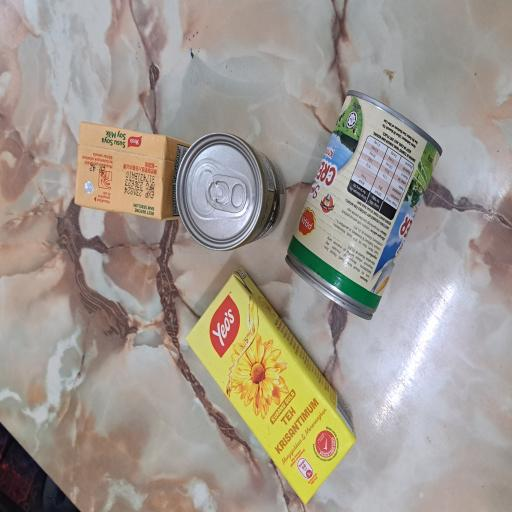can: (144, 380, 316, 512), (194, 232, 285, 378)
drink carton: (8, 247, 185, 479), (220, 97, 293, 250)
pop tab: (224, 275, 255, 330)
